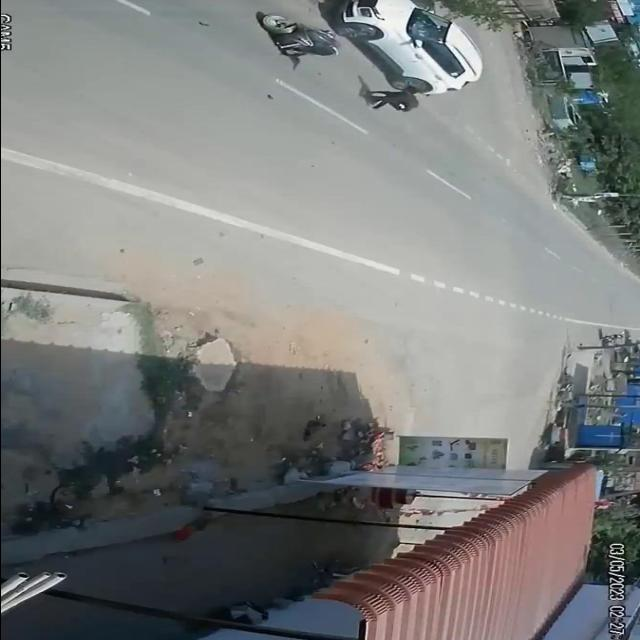accident: (252, 0, 496, 120)
